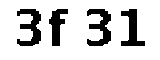1: (119, 6, 153, 55)
3: (81, 5, 115, 50), (13, 6, 43, 49)
f: (47, 4, 71, 50)
